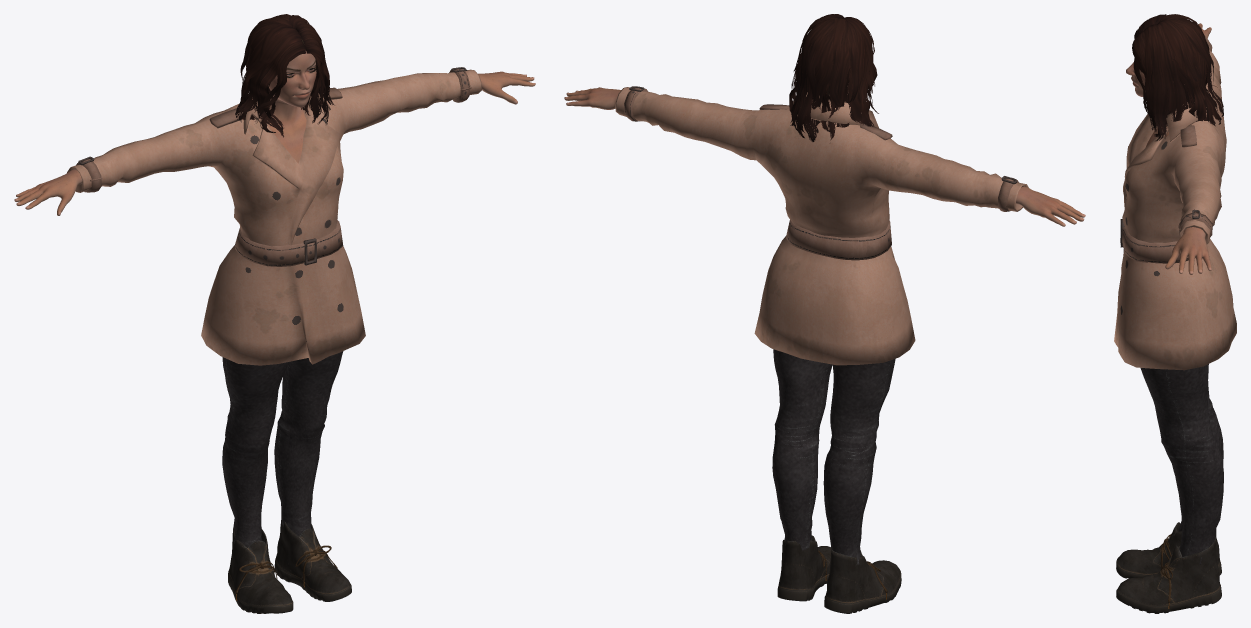
Rendered from DaniCoat-OBJ.obj.
3 renders of one model, left to right at view 1: azimuth 30°, elevation 25°; view 2: azimuth 150°, elevation 25°; view 3: azimuth 270°, elevation 25°, orthographic.
Parts seen in each view (by area): view 1: Tops, Bottoms, Shoes, Hair, Body; view 2: Tops, Bottoms, Hair, Shoes, Body; view 3: Tops, Bottoms, Hair, Shoes, Body.
Boxes of the visible parts, bbox=[...] form: Tops: bbox=[67, 67, 481, 365]; Bottoms: bbox=[222, 351, 343, 547]; Shoes: bbox=[228, 520, 351, 613]; Hair: bbox=[235, 14, 334, 137]; Body: bbox=[14, 39, 535, 215]; Tops: bbox=[615, 86, 1028, 365]; Bottoms: bbox=[772, 349, 895, 564]; Hair: bbox=[789, 14, 878, 141]; Shoes: bbox=[777, 535, 901, 613]; Body: bbox=[564, 86, 1085, 226]; Tops: bbox=[1114, 36, 1236, 370]; Bottoms: bbox=[1140, 364, 1223, 564]; Hair: bbox=[1132, 14, 1223, 141]; Shoes: bbox=[1116, 522, 1221, 613]; Body: bbox=[1126, 23, 1211, 274].
Size of the model in its own units: 158 by 168 by 32.62.
5 materials, 5 textured.
